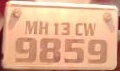character: (12, 36, 37, 64), (39, 36, 60, 64), (63, 38, 85, 64), (87, 38, 108, 65), (24, 19, 37, 35), (83, 21, 96, 36), (38, 20, 49, 34), (60, 21, 70, 36), (74, 22, 83, 36), (52, 21, 59, 34)
